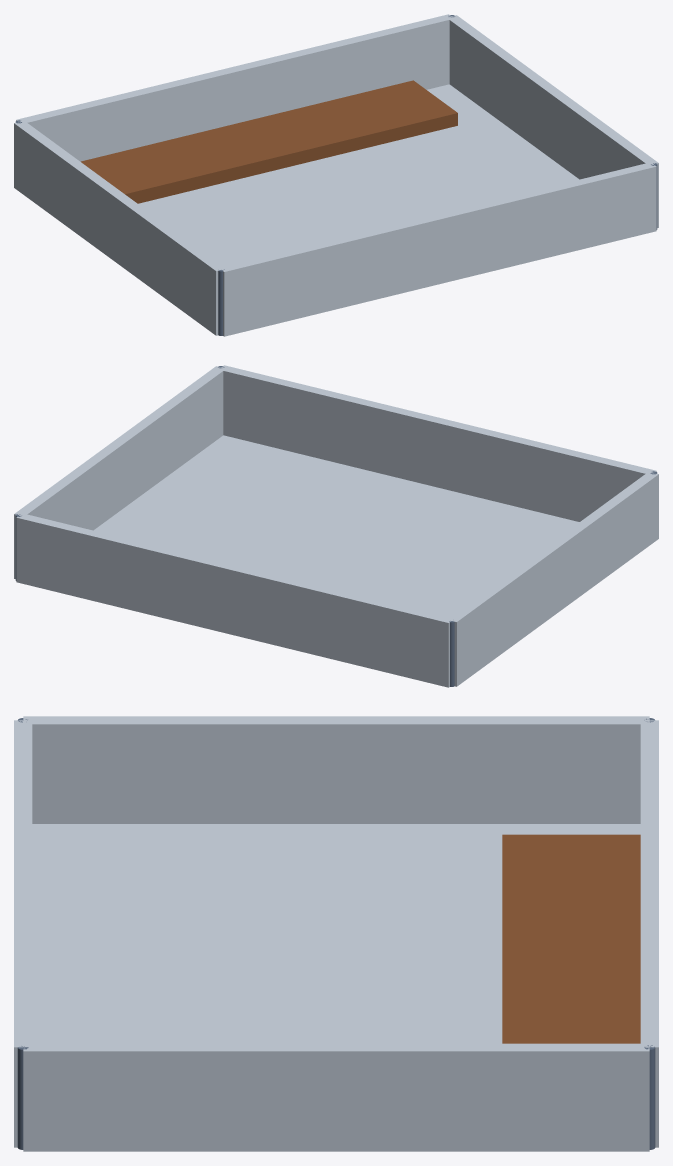
The model's file is testing_wedding_hall.glb.
3 views of the same model, one above another, from view 1: azimuth 30°, elevation 25°; view 2: azimuth 150°, elevation 25°; view 3: azimuth 270°, elevation 25° (orthographic). The views are drawn at different scales.
Parts seen in each view (by area): view 1: Wall_Segment (×4), Floor, Stage_Platform, room-content; view 2: Wall_Segment (×4), Floor, room-content; view 3: Wall_Segment (×4), Floor, Stage_Platform, room-content.
Boxes of the visible parts, <box> form: Wall_Segment (×4): <box>14,14,658,336</box>; Floor: <box>138,84,579,266</box>; Stage_Platform: <box>81,80,457,203</box>; room-content: <box>15,15,657,335</box>; Wall_Segment (×4): <box>14,365,658,687</box>; Floor: <box>93,435,579,617</box>; room-content: <box>15,366,657,686</box>; Wall_Segment (×4): <box>14,716,658,1151</box>; Floor: <box>32,824,640,1043</box>; Stage_Platform: <box>502,834,640,1043</box>; room-content: <box>17,718,655,1149</box>.
Size of the model in its own units: 21.5 by 3 by 17.5.
